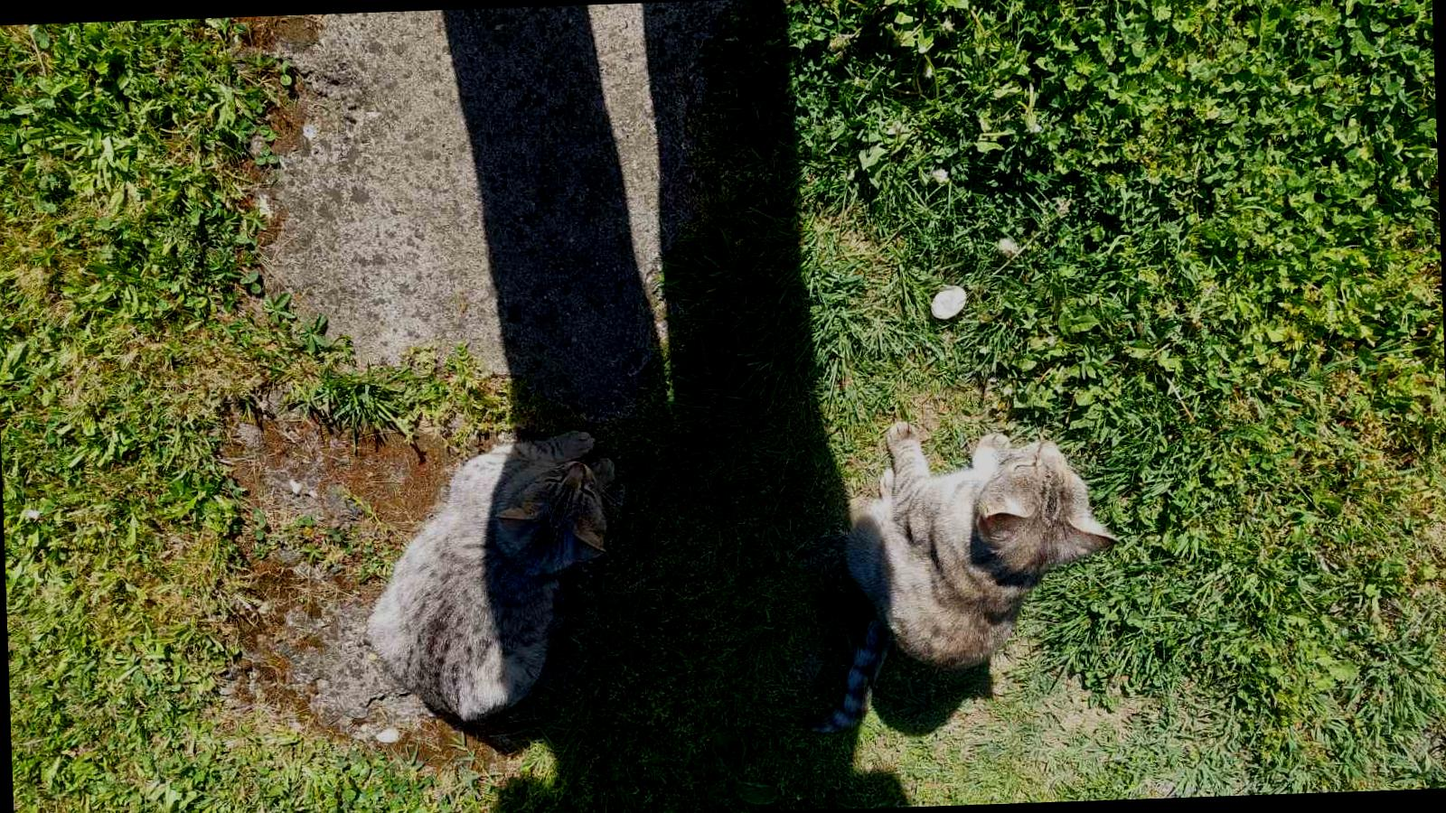macka: (798, 410, 1119, 732), (361, 430, 624, 724)
